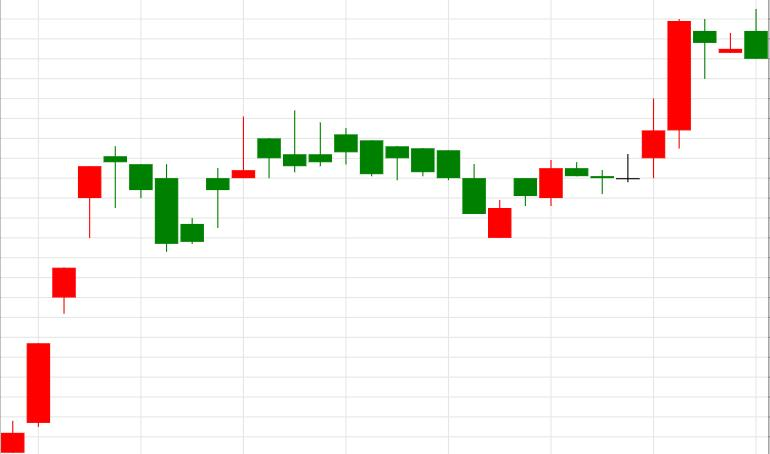evening_star_fall: (1, 146, 152, 453)
